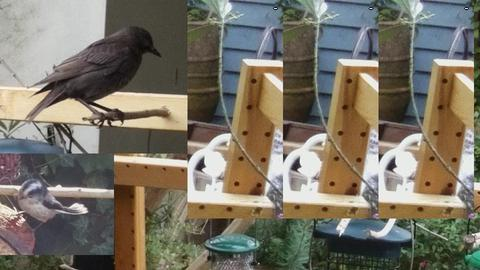long tailed tit: (11, 178, 89, 232)
starling: (25, 25, 162, 128)
